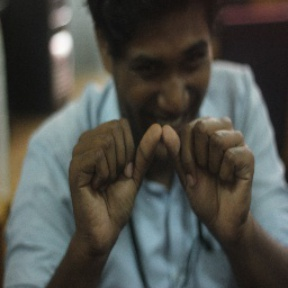A: (88, 116, 242, 213)
